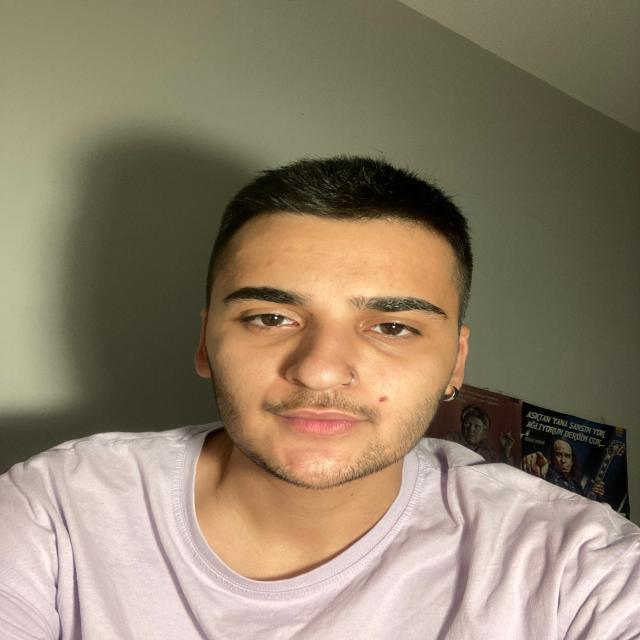Acne: (377, 394, 390, 404), (266, 261, 276, 267)
Blackheads: (303, 366, 333, 384)
Englarged-Pores: (360, 364, 399, 392)
